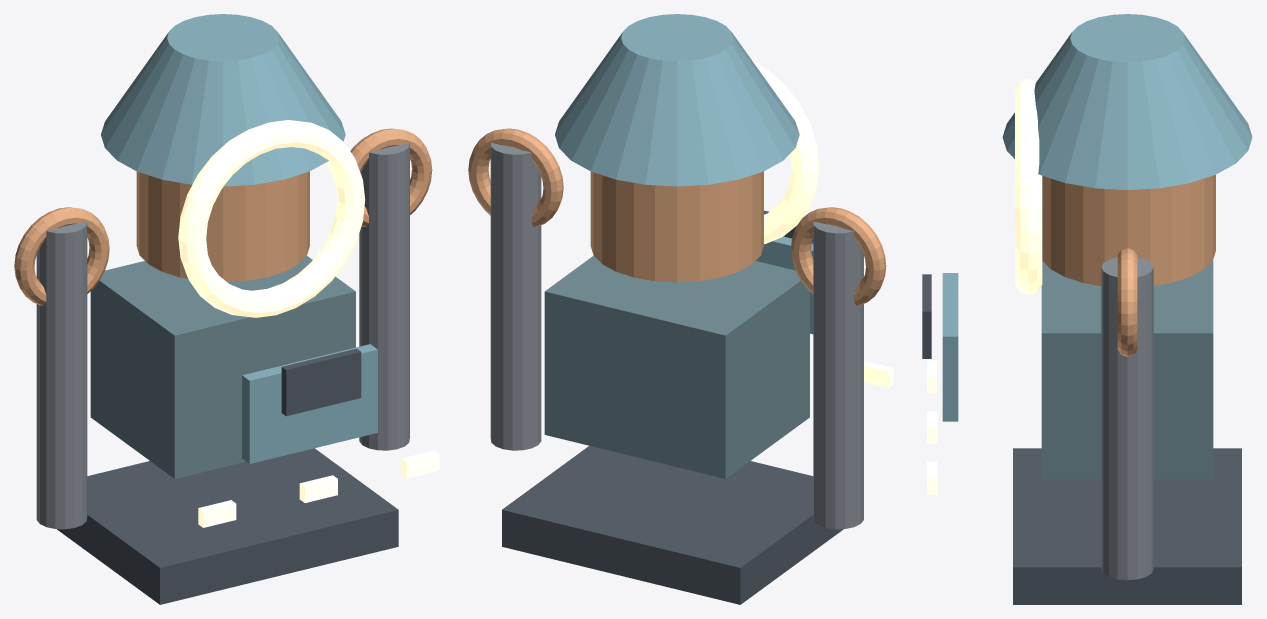
The model's file is asset.glb.
3 renders of one model, left to right at view 1: azimuth 30°, elevation 25°; view 2: azimuth 150°, elevation 25°; view 3: azimuth 270°, elevation 25°, orthographic. The views are drawn at different scales.
Parts seen in each view (by area): view 1: Housing, Foot, TopCap, SidePost_-1, CoreHalo, Core, SidePost_1, FrontInset, ControlFace, SideRing_-1, SideRing_1, FunctionalTrim_1 (+2 smaller); view 2: Housing, Foot, TopCap, Core, SidePost_1, SidePost_-1, CoreHalo, SideRing_-1, SideRing_1, FrontInset, FunctionalTrim_0; view 3: TopCap, Foot, Housing, SidePost_1, Core, CoreHalo, FrontInset, SideRing_1, ControlFace.
Boxes of the visible parts, x1=… form: Housing: x1=90, y1=256, x2=355, y2=478; Foot: x1=57, y1=448, x2=398, y2=604; TopCap: x1=101, y1=14, x2=345, y2=186; SidePost_-1: x1=36, y1=216, x2=87, y2=529; CoreHalo: x1=178, y1=120, x2=365, y2=317; Core: x1=136, y1=171, x2=309, y2=282; SidePost_1: x1=359, y1=137, x2=409, y2=450; FrontInset: x1=242, y1=344, x2=377, y2=463; ControlFace: x1=281, y1=348, x2=361, y2=416; SideRing_-1: x1=14, y1=207, x2=109, y2=305; SideRing_1: x1=350, y1=128, x2=432, y2=226; FunctionalTrim_1: x1=299, y1=475, x2=337, y2=502; Housing: x1=544, y1=255, x2=809, y2=478; Foot: x1=502, y1=446, x2=843, y2=604; TopCap: x1=555, y1=14, x2=799, y2=186; Core: x1=590, y1=171, x2=763, y2=282; SidePost_1: x1=490, y1=137, x2=541, y2=450; SidePost_-1: x1=813, y1=216, x2=863, y2=529; CoreHalo: x1=752, y1=60, x2=819, y2=244; SideRing_-1: x1=791, y1=207, x2=886, y2=305; SideRing_1: x1=468, y1=128, x2=563, y2=226; FrontInset: x1=756, y1=236, x2=813, y2=334; FunctionalTrim_0: x1=864, y1=361, x2=893, y2=387; TopCap: x1=1002, y1=14, x2=1252, y2=189; Foot: x1=1013, y1=448, x2=1241, y2=604; Housing: x1=1041, y1=260, x2=1213, y2=479; SidePost_1: x1=1101, y1=257, x2=1153, y2=580; Core: x1=1042, y1=174, x2=1215, y2=285; CoreHalo: x1=1015, y1=79, x2=1042, y2=294; FrontInset: x1=942, y1=273, x2=958, y2=421; SideRing_1: x1=1117, y1=248, x2=1137, y2=356; ControlFace: x1=922, y1=274, x2=931, y2=358.
Size of the model in its own units: 1.88 by 2.15 by 1.27.
